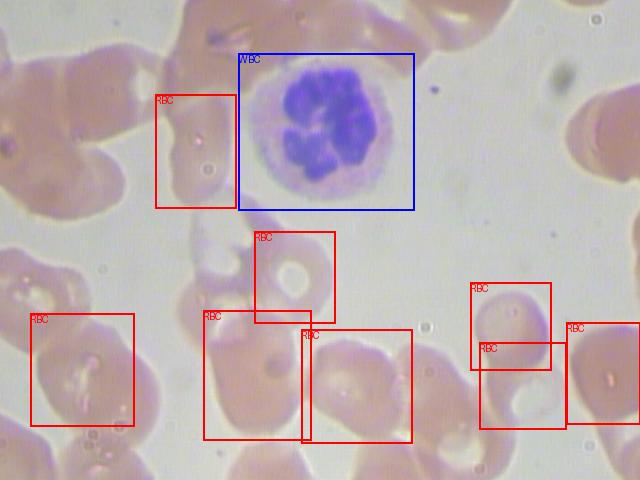RBC: (203, 310, 311, 440), (301, 329, 412, 443), (30, 313, 134, 426), (155, 94, 236, 208), (479, 342, 566, 429), (566, 322, 640, 424), (254, 231, 335, 323), (470, 282, 551, 370)
WBC: (238, 53, 414, 210)
